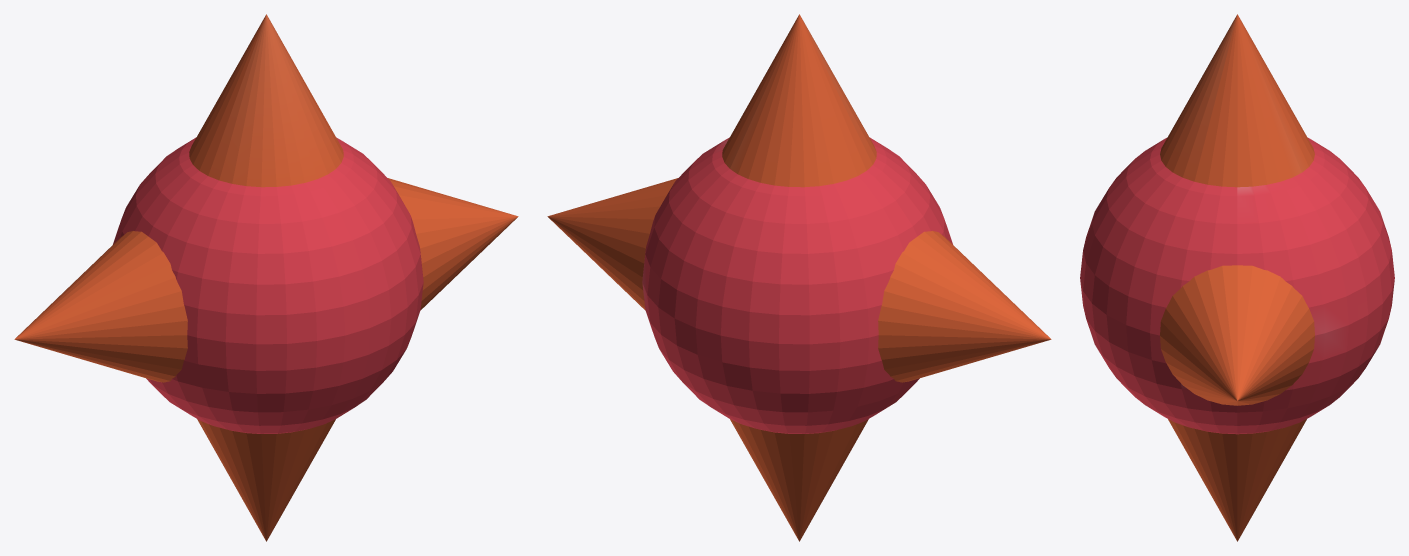
Rendered from Mine3.fbx.
3 views of the same model, side by side, from view 1: azimuth 30°, elevation 25°; view 2: azimuth 150°, elevation 25°; view 3: azimuth 270°, elevation 25° (orthographic).
Visible parts, largest first — view 1: Sphere; view 2: Sphere; view 3: Sphere.
Part boxes in pixels (x1,y1,x2,y2): Sphere: (14, 14, 518, 541); Sphere: (547, 14, 1051, 541); Sphere: (1080, 14, 1394, 541).
Size of the model in its own units: 3.7 by 3.7 by 2.
